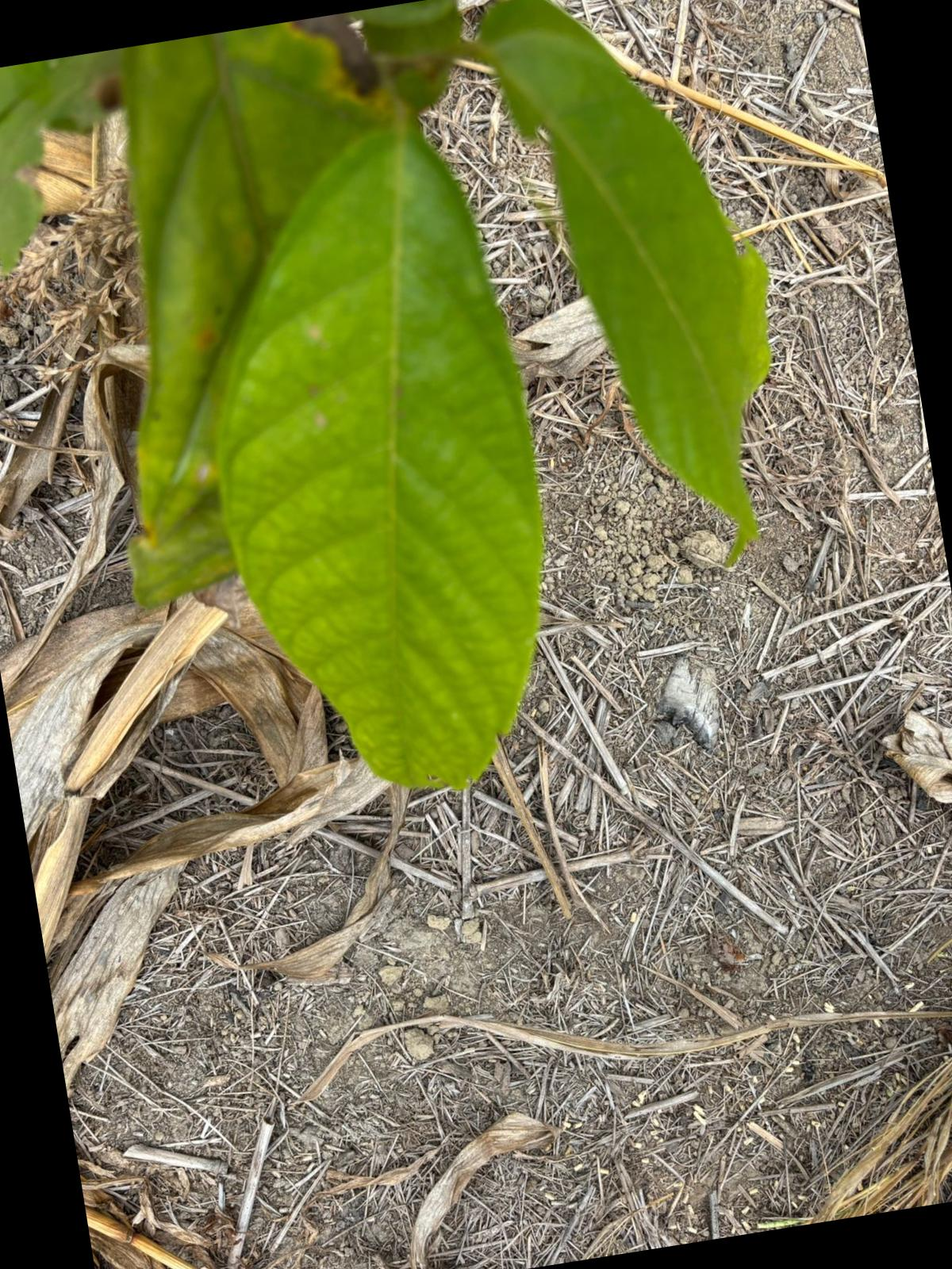Nitrogeno: (217, 122, 543, 786)
